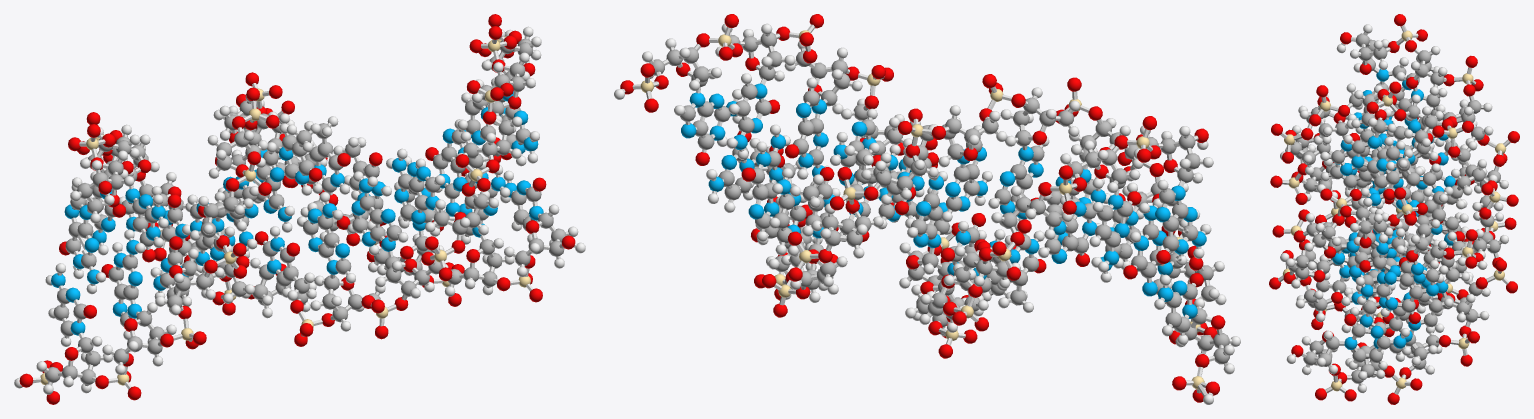
File: DNA.fbx
3 renders of one model, left to right at view 1: azimuth 30°, elevation 25°; view 2: azimuth 150°, elevation 25°; view 3: azimuth 270°, elevation 25°, orthographic. The views are drawn at different scales.
Visible parts, largest first — view 1: DNA; view 2: DNA; view 3: DNA.
Boxes of the visible parts, x1,y1,x2,y2 form: DNA: (14, 14, 585, 404); DNA: (614, 14, 1240, 404); DNA: (1269, 14, 1519, 404).
Bounding box in the file's own units: 38.26 × 18.13 × 17.49.
